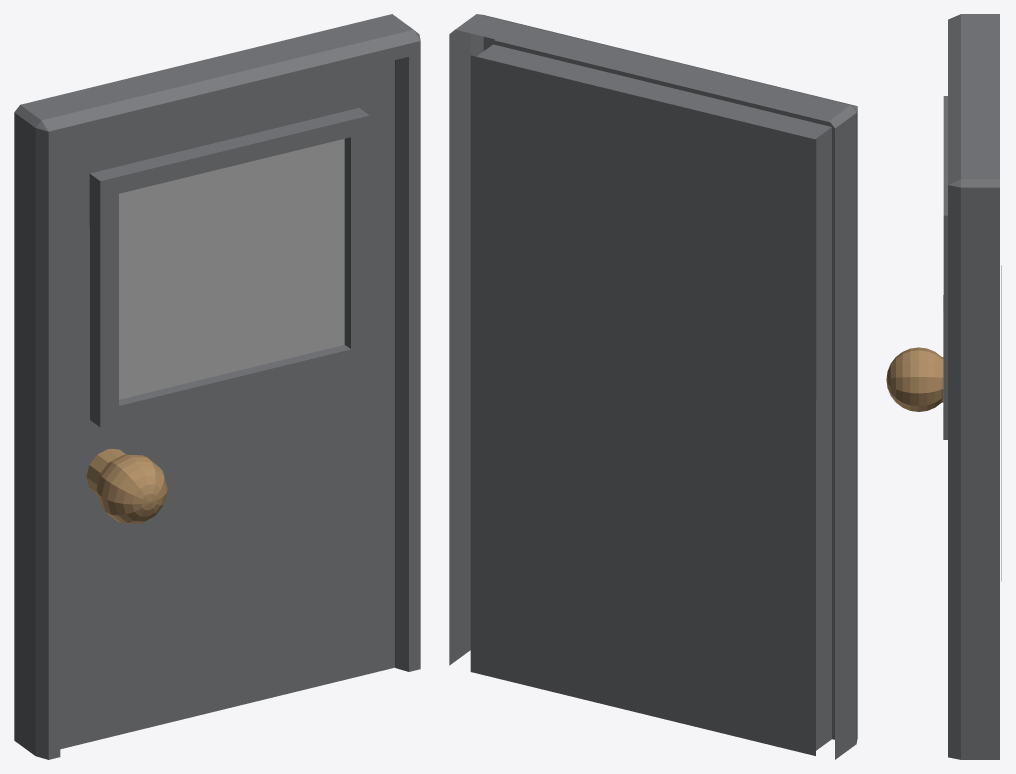
File: obj_door_s.fbx
3 views of the same model, side by side, from view 1: azimuth 30°, elevation 25°; view 2: azimuth 150°, elevation 25°; view 3: azimuth 270°, elevation 25° (orthographic). The views are drawn at different scales.
Parts seen in each view (by area): view 1: obj_door_s; view 2: obj_door_s; view 3: obj_door_s.
Part boxes in pixels (x1,y1,x2,y2): obj_door_s: (14,14,420,759); obj_door_s: (449,14,857,759); obj_door_s: (886,14,1001,759).
Size of the model in its own units: 1.2 by 1.9 by 0.3432.
Materials: 2 (1 with a texture image).
